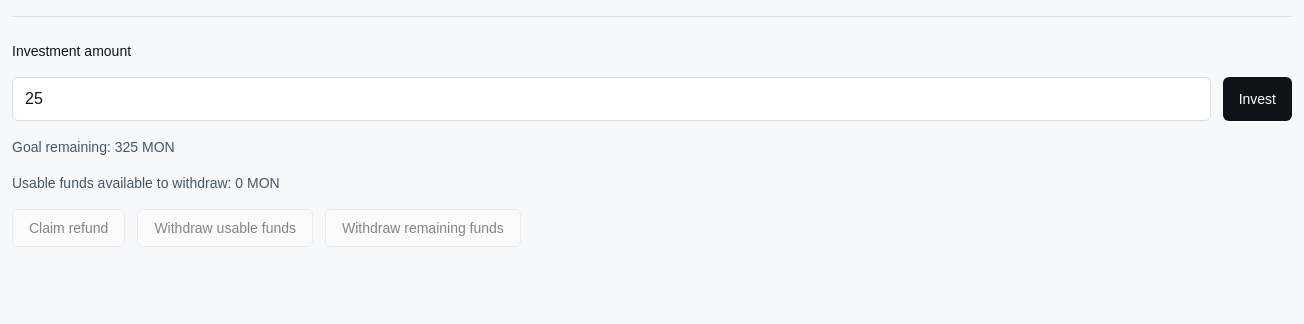
it: CampaignActions › refreshes campaign data after a successful transaction
Click the button "Invest" at (1257, 99), box [1223,77,1292,121]
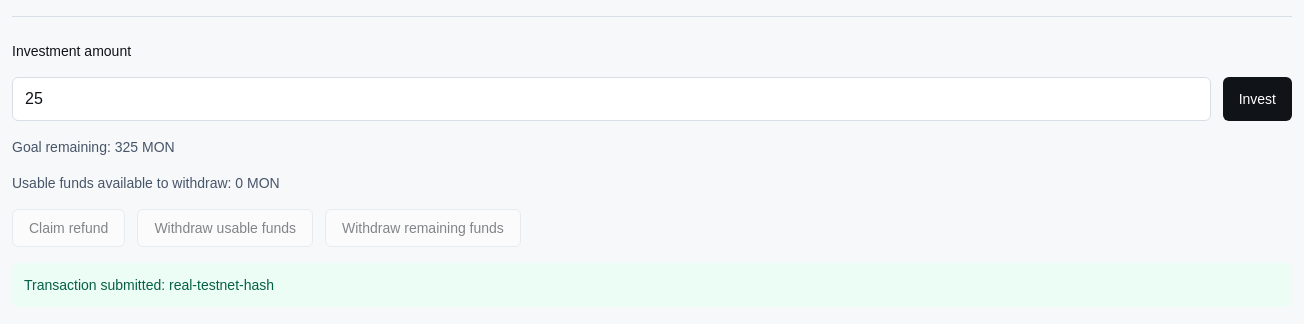
Result: the text "Transaction submitted: real-testnet-hash" is shown at [12,263,1292,307]
